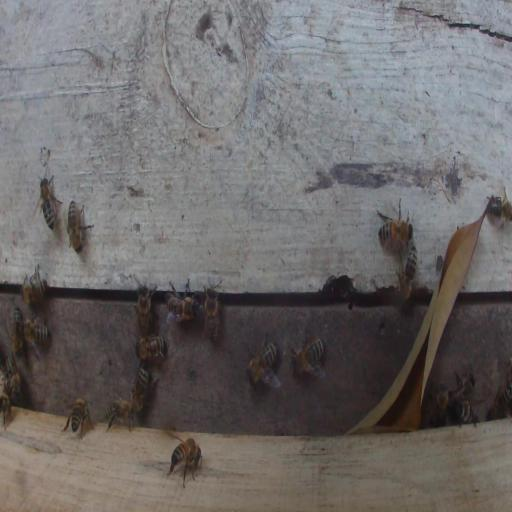nonpollenbee: (167, 437, 202, 488), (65, 198, 94, 254), (165, 277, 199, 322), (36, 173, 62, 231), (288, 338, 325, 378), (247, 341, 279, 387), (135, 278, 158, 333), (61, 396, 91, 438), (203, 278, 222, 343), (396, 244, 417, 301), (21, 264, 47, 309), (379, 218, 413, 249), (106, 397, 135, 433), (131, 363, 150, 411), (135, 334, 166, 361), (23, 319, 51, 347), (9, 306, 24, 358), (4, 354, 21, 399), (489, 385, 511, 419), (452, 372, 475, 403), (434, 381, 449, 425), (455, 400, 478, 426), (485, 197, 511, 219), (0, 392, 12, 430)
